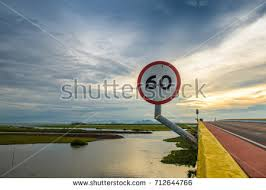Speed_limit_60km: (137, 60, 181, 104)
